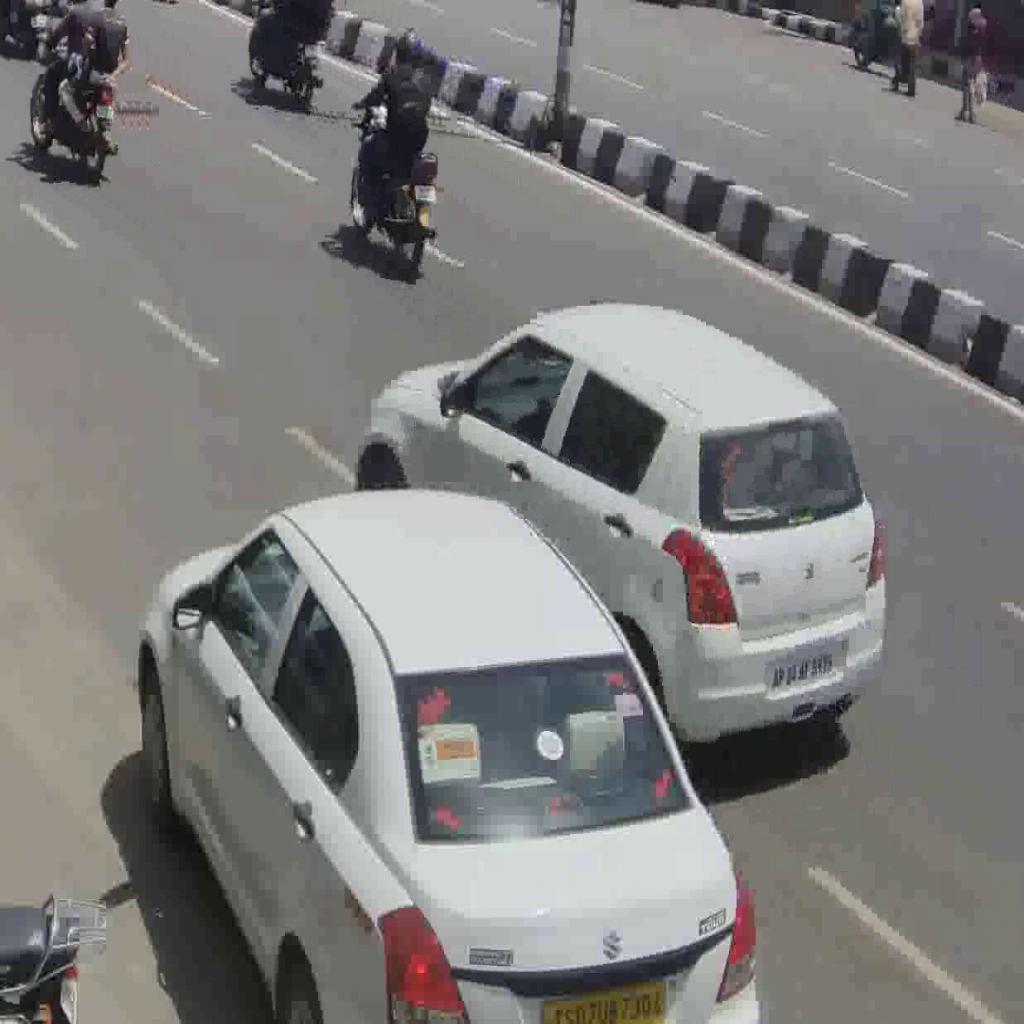bike: (349, 100, 443, 276), (30, 31, 120, 181), (248, 0, 325, 103)
helmet: (392, 30, 424, 70)
lisc: (414, 182, 435, 203), (96, 103, 114, 122), (304, 42, 321, 58)
rider: (352, 30, 428, 226)
